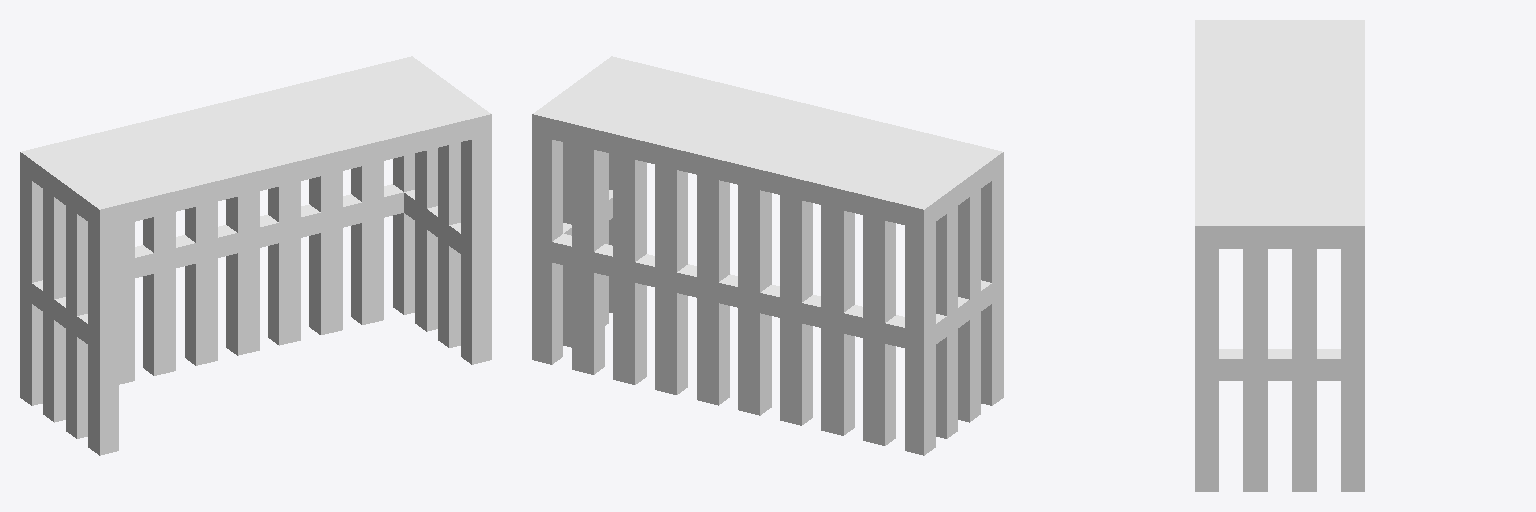
robot.urdf — urdf_robot:
<?xml version="1.0" ?>

<robot name="urdf_robot">
  <link name="baseLink">
  	<contact>
      <rolling_friction value="1"/>
      <spinning_friction value="1"/>
    </contact>

    <inertial>
      <origin rpy="0 0 0" xyz="0 0 0"/>
       <mass value="1000.0"/>
       <inertia ixx="1" ixy="0" ixz="0" iyy="1" iyz="0" izz="1"/>
    </inertial>
    <visual>
      <origin rpy="0 0 0" xyz="0 0 0"/>
      <geometry>
        <mesh filename="package://model_description/meshes/collision/goal_post.obj" scale="0.02 0.02 0.02"/>
      </geometry>
      <material name="goal_white"/>
    </visual>
    <collision>
      <origin rpy="0 0 0" xyz="0 0 0"/>
      collision>
      <geometry>
        <mesh filename="package://model_description/meshes/collision/goal_post.obj" scale="0.02 0.02 0.02"/>
      </geometry>
      <material name="goal_white"/>
    </collision>
  </link>

  <material name="goal_white">
    <color rgba="1. 1. 1. 1."/>
  </material>
</robot>

--- Render facts (derived) ---
Views: 3 orthographic renders of the robot side by side, from view 1: azimuth 30°, elevation 25°; view 2: azimuth 150°, elevation 25°; view 3: azimuth 270°, elevation 25°.
Model urdf_robot with 1 links and 0 joints (none), rooted at baseLink, posed every joint at zero.
Visible links, largest first — view 1: baseLink; view 2: baseLink; view 3: baseLink.
Link boxes in pixels (x1,y1,x2,y2): baseLink: (20, 56, 491, 455); baseLink: (532, 56, 1003, 455); baseLink: (1195, 20, 1364, 491).
Size in the robot's own frame: 2 by 0.7 by 1.2 metres.
Meshes: 1 distinct files referenced, 1 mesh visuals loaded (1 OBJ).